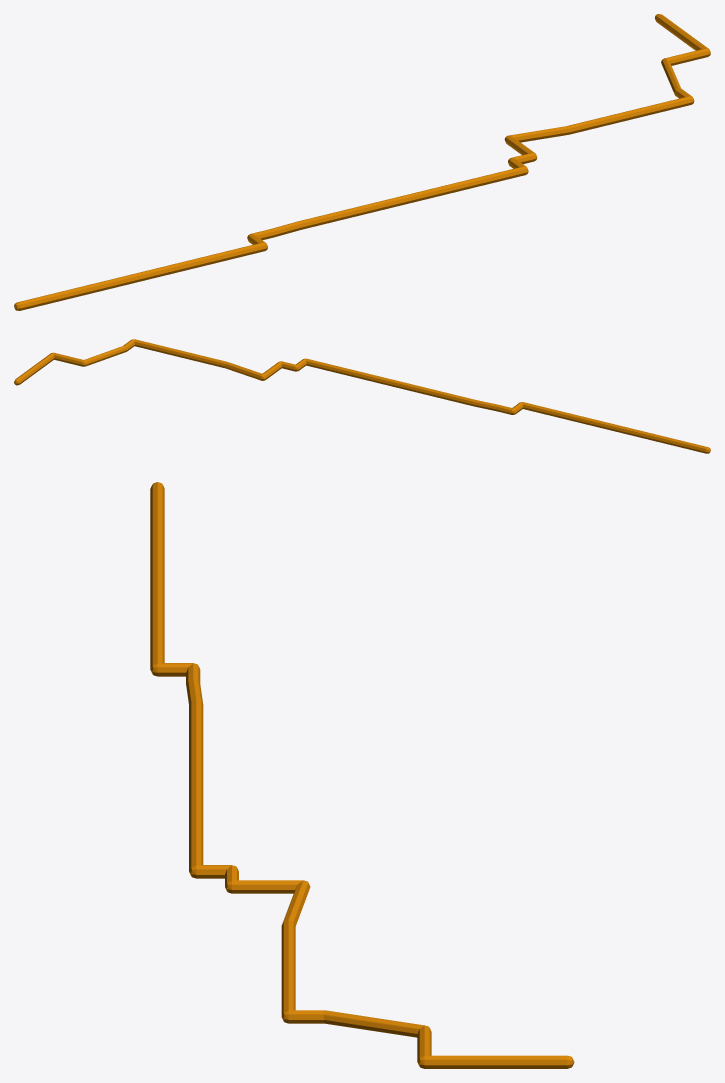
3 renders of one model, top to bottom at view 1: azimuth 30°, elevation 25°; view 2: azimuth 150°, elevation 25°; view 3: azimuth 270°, elevation 25°, orthographic. The views are drawn at different scales.
Bounding box in the file's own units: 1920 × 20 × 594.
